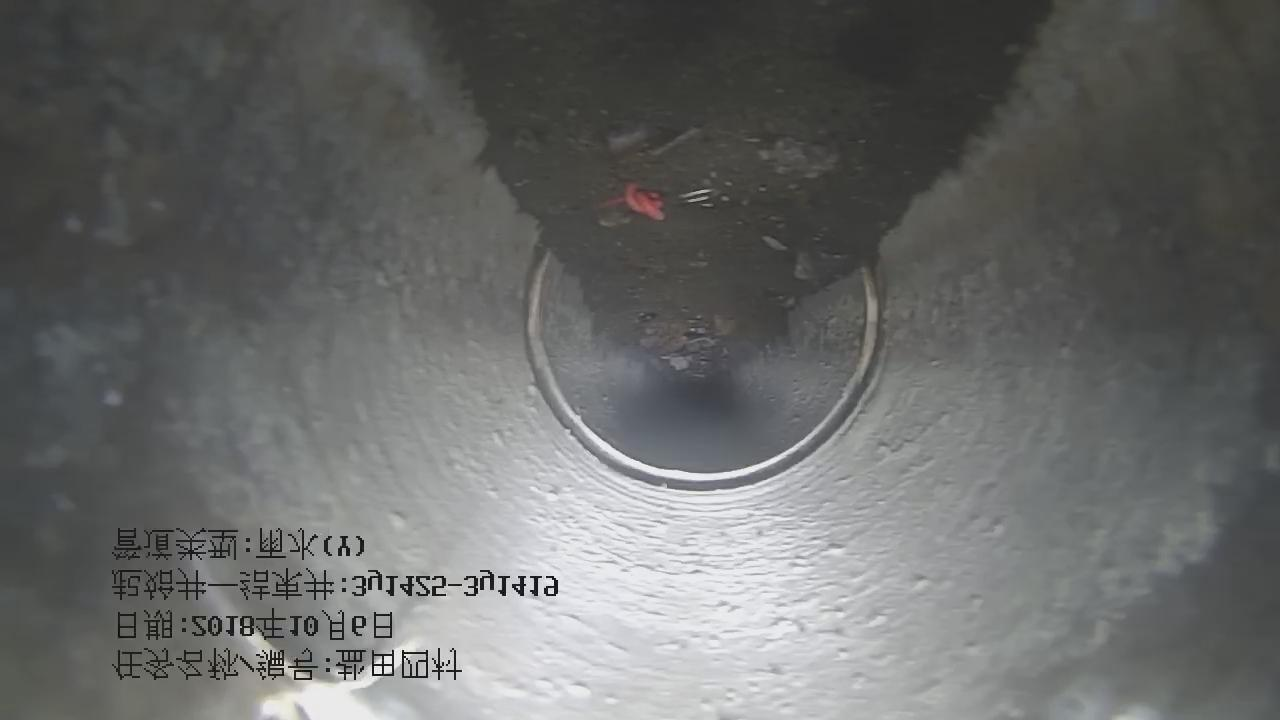CJ: (438, 1, 1047, 377)
CKTJ: (525, 250, 882, 492)
